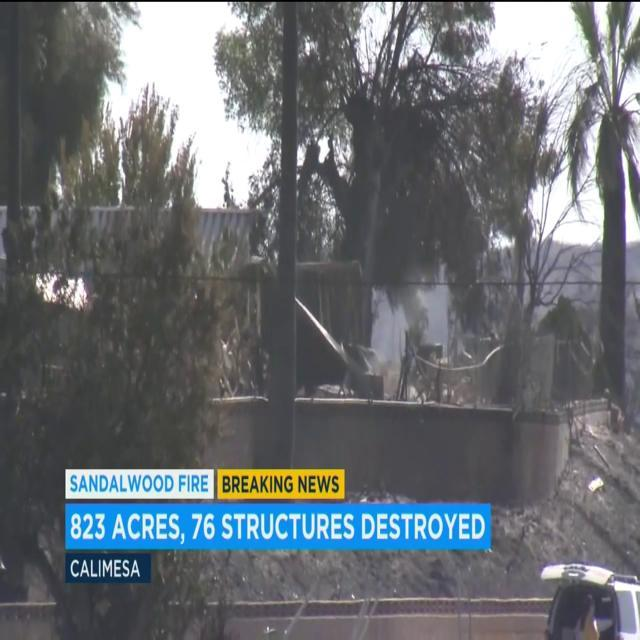Smoke: (364, 256, 466, 398)
